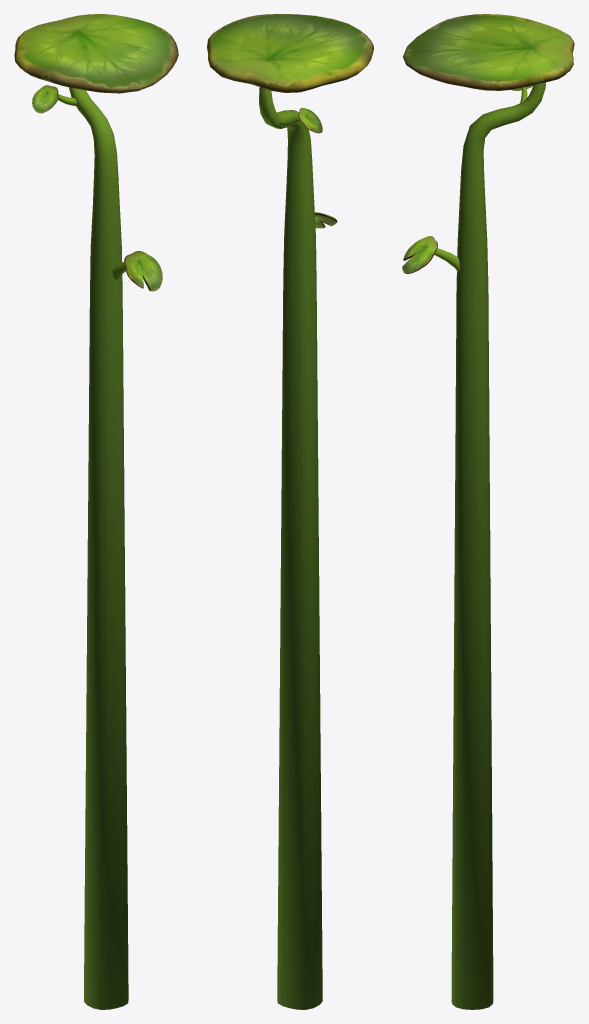
Rendered from LeafPlatform_2.fbx.
The picture shows the model from 3 angles, left to right: view 1: azimuth 30°, elevation 25°; view 2: azimuth 150°, elevation 25°; view 3: azimuth 270°, elevation 25°; orthographic projection.
Parts seen in each view (by area): view 1: Object005, Object006; view 2: Object005, Object006; view 3: Object005, Object006.
Boxes of the visible parts, bbox=[...] form: Object005: bbox=[58, 87, 128, 1009]; Object006: bbox=[14, 14, 178, 291]; Object005: bbox=[259, 87, 322, 1009]; Object006: bbox=[207, 14, 373, 228]; Object005: bbox=[434, 82, 545, 1009]; Object006: bbox=[402, 14, 574, 273].
Size of the model in its own units: 7.2 by 44.75 by 7.32.
